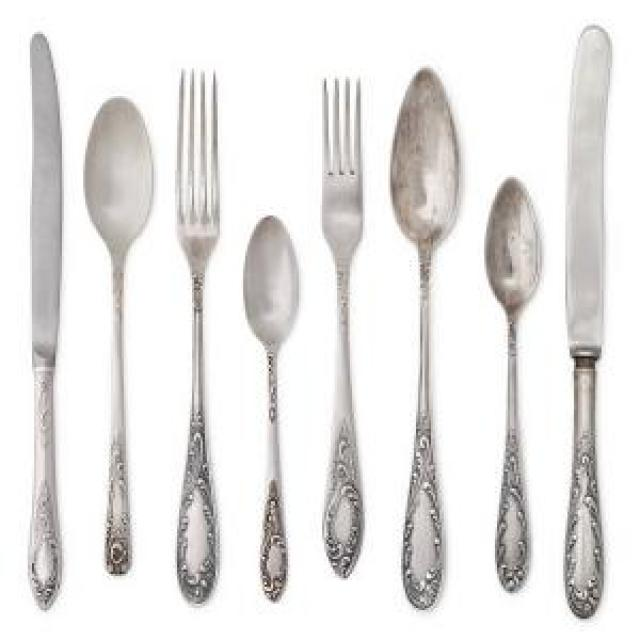knife: (566, 25, 612, 620), (22, 19, 68, 609)
